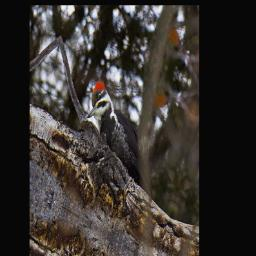Woodpecker: (80, 74, 159, 188)
